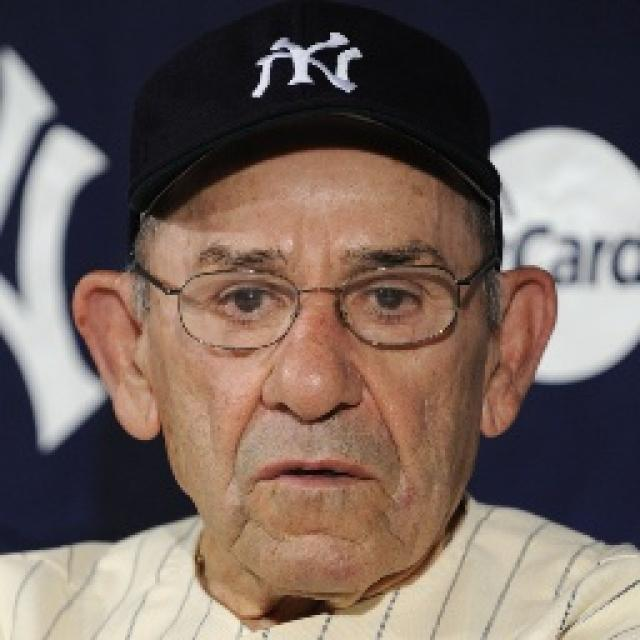earlobe: (120, 379, 164, 442), (478, 379, 521, 441)
eye: (213, 290, 283, 318), (356, 286, 420, 314)
nose: (257, 392, 361, 464)
wholeear: (72, 270, 165, 442), (479, 266, 558, 441)
